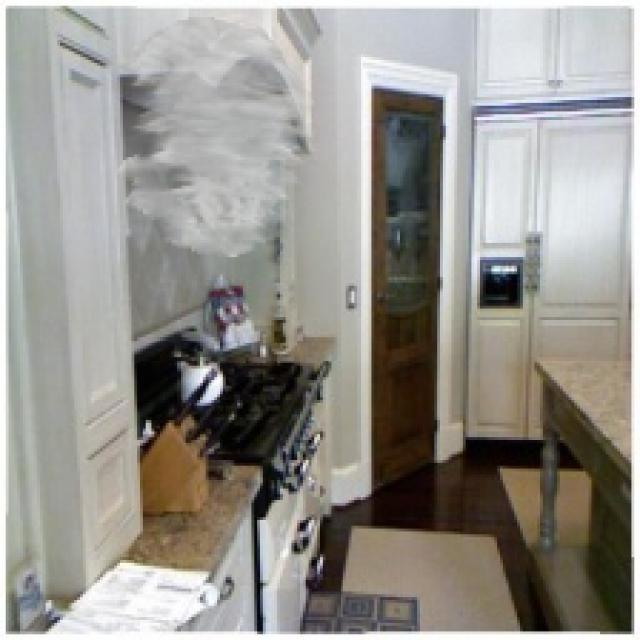Smoke: (117, 17, 320, 257)
